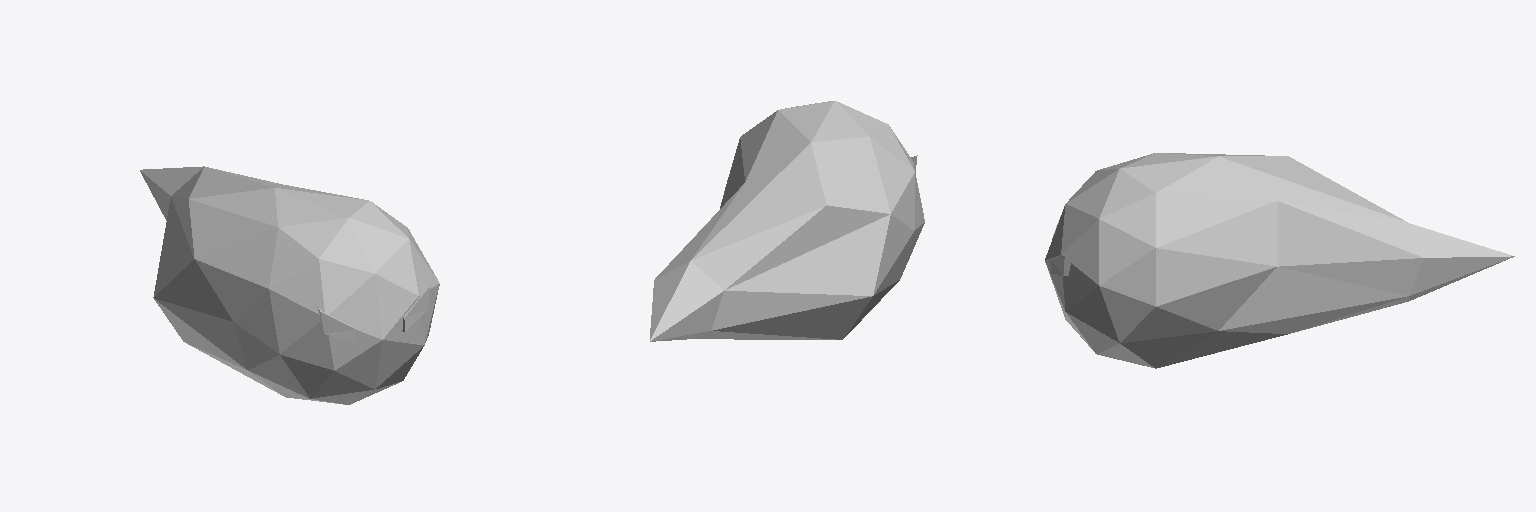
File: eel9.obj
3 views of the same model, side by side, from view 1: azimuth 30°, elevation 25°; view 2: azimuth 150°, elevation 25°; view 3: azimuth 270°, elevation 25° (orthographic).
Parts seen in each view (by area): view 1: Icosphere; view 2: Icosphere; view 3: Icosphere.
Boxes of the visible parts, box(x1,y1,x2,y2) form: Icosphere: box(140, 166, 439, 404); Icosphere: box(650, 101, 924, 341); Icosphere: box(1045, 153, 1514, 368).
Size of the model in its own units: 2.21 by 1.9 by 4.33.